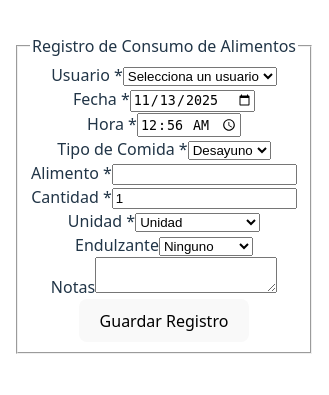
Test: RegistrationForm - Submission & Persistencia › resetea campos tras submit exitoso pero mantiene el usuario seleccionado
Select "Juan" in the dropdown labelled "Usuario *": (200, 77) [123, 67, 277, 86]
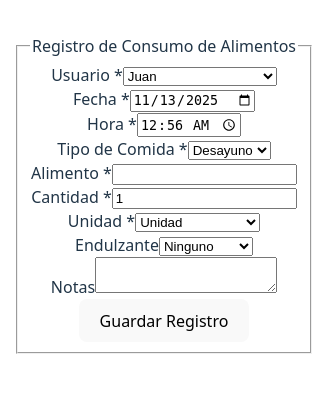
In the field labelled "Alimento *": (204, 174) [112, 164, 297, 185], type "Manzana"
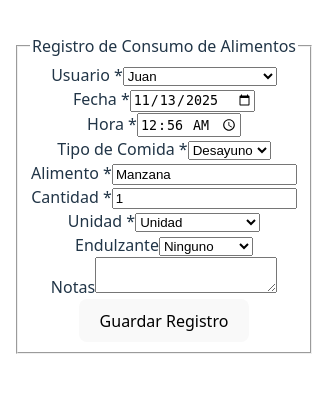
Replace the text in the number field labelled "Cantidad *" with "150": (204, 198) [112, 188, 297, 209]
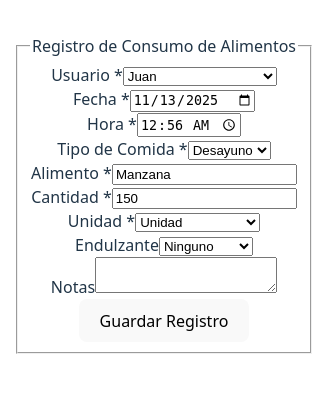
Select "Gramos" in the dropdown labelled "Unidad *": (198, 222) [135, 213, 260, 232]
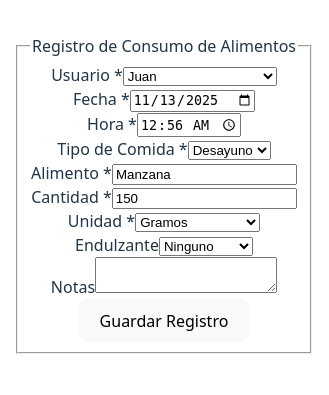
Click the button "Guardar Registro": (164, 321) [79, 299, 248, 342]
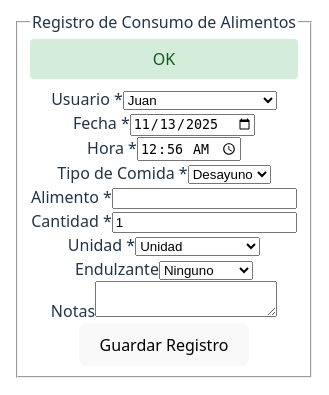
Expected: the field labelled "Alimento *" is empty, [112, 188, 297, 209]
Expected: the number field labelled "Cantidad *" holds "1", [112, 212, 297, 233]
